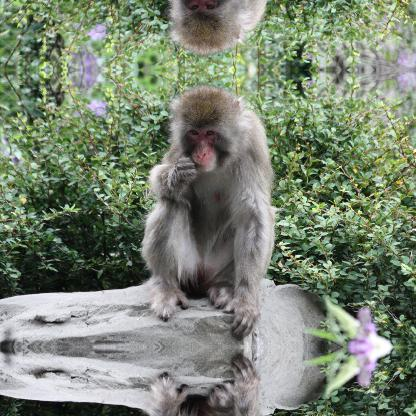Monkey: (136, 83, 284, 341), (136, 351, 285, 415), (136, 0, 285, 56)
